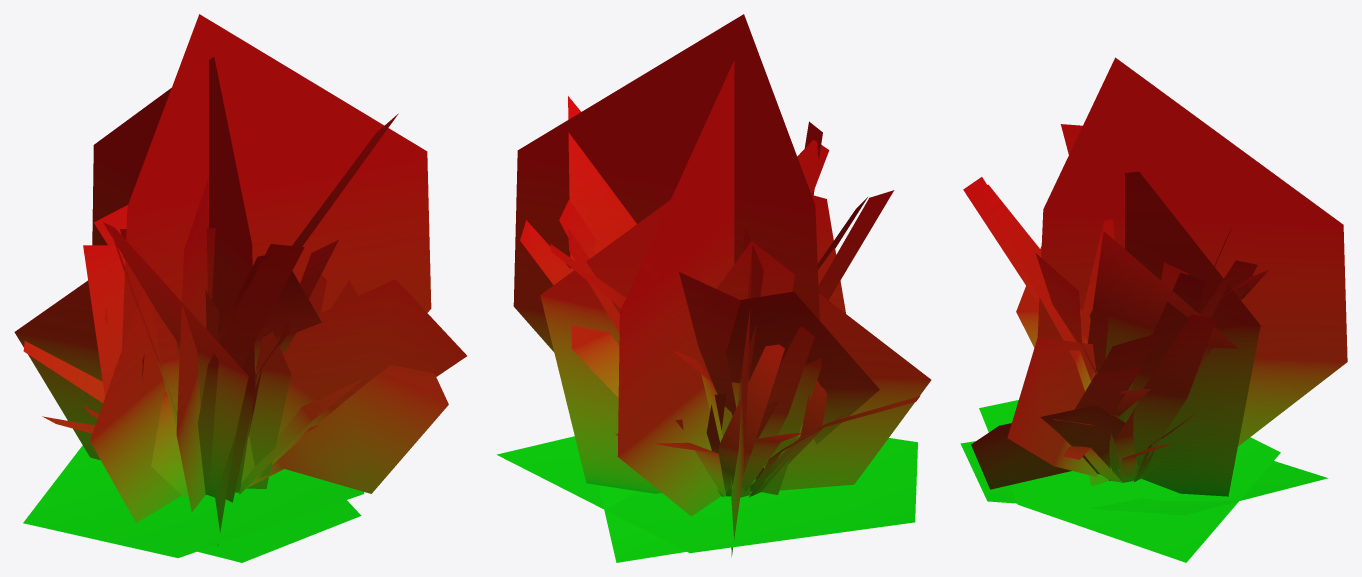
The model's file is Leafy Nineawn_LOD1_Var2_tlijciuia.fbx.
3 views of the same model, side by side, from view 1: azimuth 30°, elevation 25°; view 2: azimuth 150°, elevation 25°; view 3: azimuth 270°, elevation 25° (orthographic). The views are drawn at different scales.
Visible parts, largest first — view 1: _4c87_Var2_LOD1; view 2: _4c87_Var2_LOD1; view 3: _4c87_Var2_LOD1.
Boxes of the visible parts, x1=… form: _4c87_Var2_LOD1: x1=14, y1=14, x2=466, y2=562; _4c87_Var2_LOD1: x1=497, y1=14, x2=931, y2=562; _4c87_Var2_LOD1: x1=960, y1=57, x2=1347, y2=562.
Bounding box in the file's own units: 14.13 × 16.93 × 12.3.
